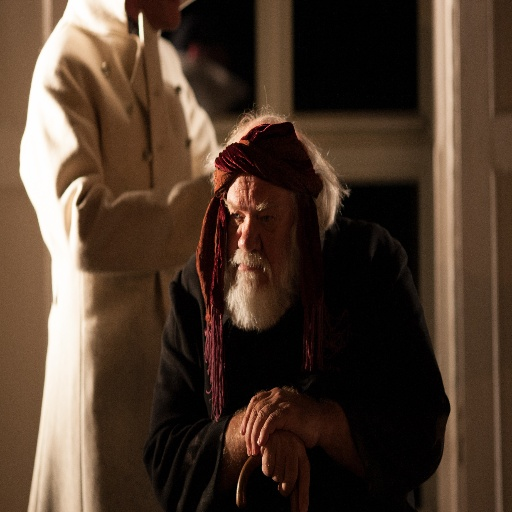hand: (230, 388, 337, 491), (257, 431, 310, 511)
